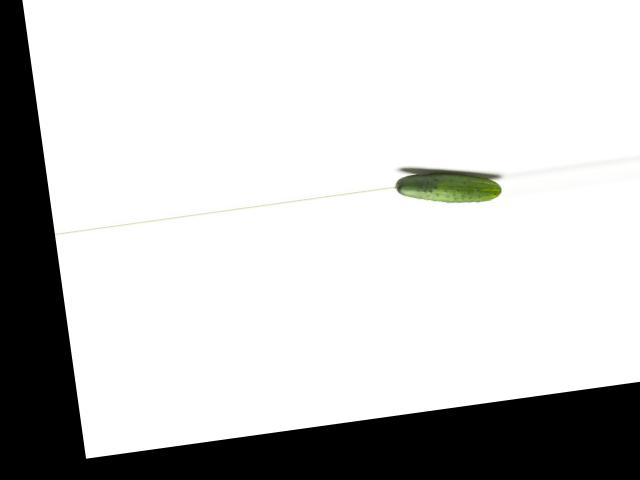cucumber: (392, 162, 502, 213)
